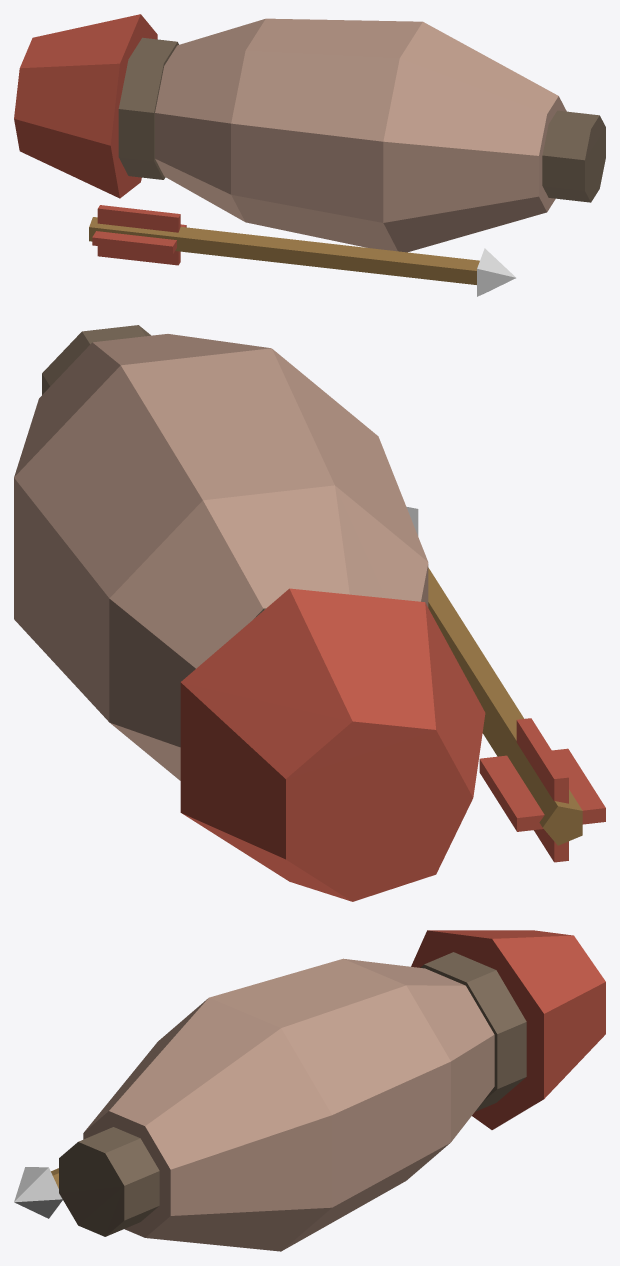
The model's file is ce_ammo2_great_steel_c.obj.
3 renders of one model, top to bottom at view 1: azimuth 30°, elevation 25°; view 2: azimuth 150°, elevation 25°; view 3: azimuth 270°, elevation 25°, orthographic. The views are drawn at different scales.
Parts seen in each view (by area): view 1: ce_ammo2_great_steel_c_2, ce_ammo2_great_steel_c_1, ce_ammo2_great_steel_c_5, ce_ammo2_great_steel_c_3, ce_ammo2_great_steel_c_6, ce_ammo2_great_steel_c_4, ce_ammo2_great_steel_c_0, ce_ammo2_great_steel_c_9, ce_ammo2_great_steel_c_8, ce_ammo2_great_steel_c_7; view 2: ce_ammo2_great_steel_c_5, ce_ammo2_great_steel_c_2, ce_ammo2_great_steel_c_3, ce_ammo2_great_steel_c_6, ce_ammo2_great_steel_c_1, ce_ammo2_great_steel_c_8, ce_ammo2_great_steel_c_9, ce_ammo2_great_steel_c_0; view 3: ce_ammo2_great_steel_c_1, ce_ammo2_great_steel_c_2, ce_ammo2_great_steel_c_5, ce_ammo2_great_steel_c_0, ce_ammo2_great_steel_c_3, ce_ammo2_great_steel_c_4, ce_ammo2_great_steel_c_7.
Part boxes in pixels (x1=…): ce_ammo2_great_steel_c_2: x1=231, y1=18, x2=422, y2=251; ce_ammo2_great_steel_c_1: x1=383, y1=22, x2=566, y2=252; ce_ammo2_great_steel_c_5: x1=14, y1=14, x2=157, y2=198; ce_ammo2_great_steel_c_3: x1=155, y1=19, x2=265, y2=221; ce_ammo2_great_steel_c_6: x1=89, y1=217, x2=479, y2=284; ce_ammo2_great_steel_c_4: x1=118, y1=37, x2=178, y2=179; ce_ammo2_great_steel_c_0: x1=542, y1=110, x2=605, y2=202; ce_ammo2_great_steel_c_9: x1=97, y1=205, x2=180, y2=265; ce_ammo2_great_steel_c_8: x1=92, y1=224, x2=186, y2=254; ce_ammo2_great_steel_c_7: x1=477, y1=248, x2=516, y2=296; ce_ammo2_great_steel_c_5: x1=180, y1=588, x2=485, y2=901; ce_ammo2_great_steel_c_2: x1=14, y1=348, x2=427, y2=721; ce_ammo2_great_steel_c_3: x1=109, y1=485, x2=428, y2=780; ce_ammo2_great_steel_c_6: x1=428, y1=567, x2=582, y2=845; ce_ammo2_great_steel_c_1: x1=14, y1=334, x2=270, y2=476; ce_ammo2_great_steel_c_8: x1=479, y1=748, x2=605, y2=831; ce_ammo2_great_steel_c_9: x1=516, y1=718, x2=568, y2=862; ce_ammo2_great_steel_c_0: x1=42, y1=325, x2=150, y2=394; ce_ammo2_great_steel_c_1: x1=83, y1=998, x2=332, y2=1251; ce_ammo2_great_steel_c_2: x1=209, y1=959, x2=450, y2=1250; ce_ammo2_great_steel_c_5: x1=411, y1=930, x2=605, y2=1129; ce_ammo2_great_steel_c_0: x1=59, y1=1127, x2=159, y2=1236; ce_ammo2_great_steel_c_3: x1=343, y1=958, x2=494, y2=1141; ce_ammo2_great_steel_c_4: x1=420, y1=952, x2=526, y2=1111; ce_ammo2_great_steel_c_7: x1=14, y1=1167, x2=62, y2=1218.
Size of the model in its own units: 0.6615 by 0.2956 by 0.7098.
